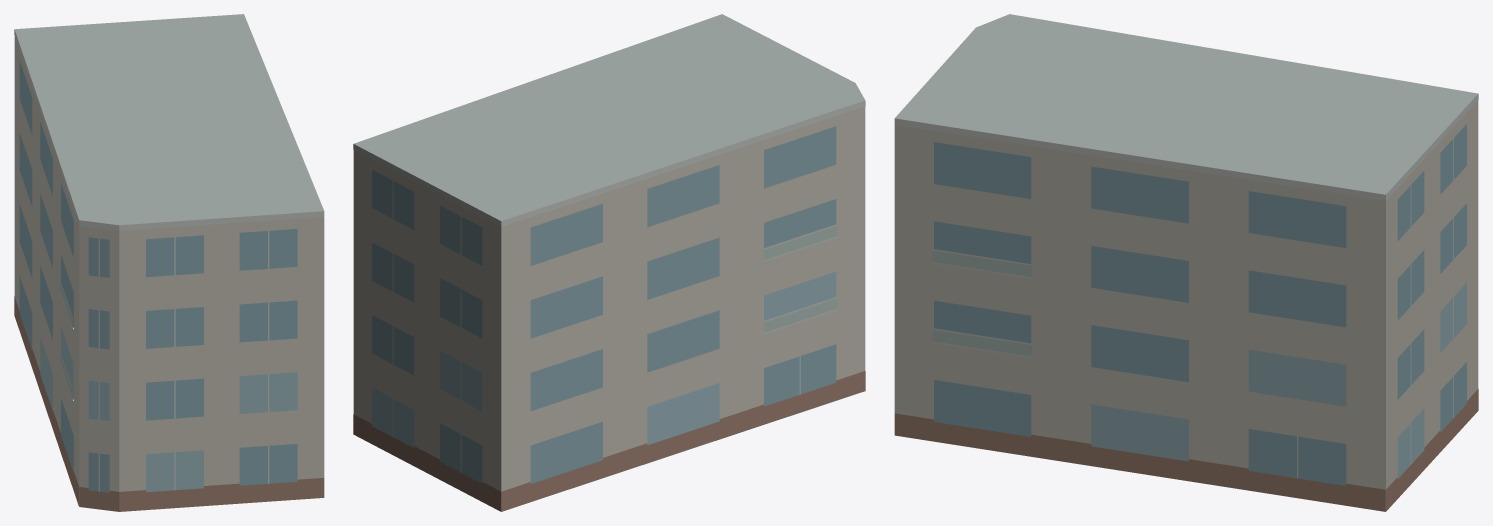
File: survey-upis-32707955.glb
The picture shows the model from 3 angles, left to right: view 1: azimuth 30°, elevation 25°; view 2: azimuth 150°, elevation 25°; view 3: azimuth 270°, elevation 25°; orthographic projection. The views are drawn at different scales.
Visible parts, largest first — view 1: survey-upis-32707955.tmp; view 2: survey-upis-32707955.tmp; view 3: survey-upis-32707955.tmp.
Boxes of the visible parts, x1,y1,x2,y2 form: survey-upis-32707955.tmp: (14, 14, 324, 511); survey-upis-32707955.tmp: (353, 14, 865, 511); survey-upis-32707955.tmp: (894, 14, 1478, 511).
Bounding box in the file's own units: 14.92 × 12.2 × 20.37.
